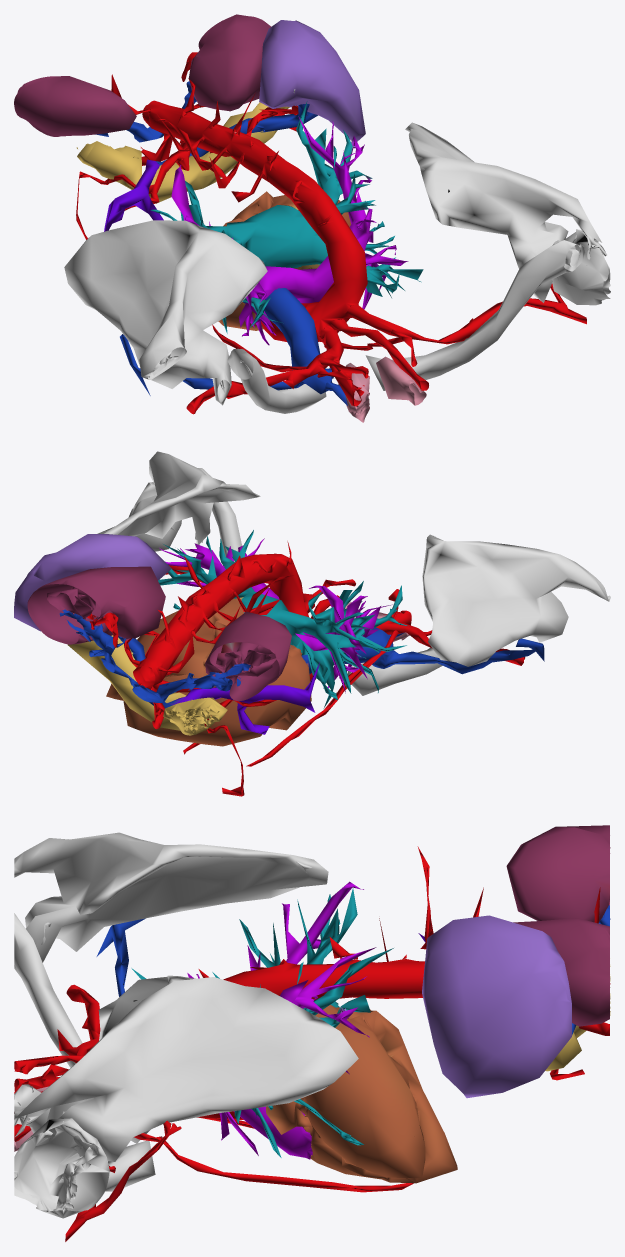
Rendered from RAJA2-simplified.obj.
3 renders of one model, top to bottom at view 1: azimuth 30°, elevation 25°; view 2: azimuth 150°, elevation 25°; view 3: azimuth 270°, elevation 25°, orthographic. The views are drawn at different scales.
Bounding box in the file's own units: 346 × 169 × 307.
